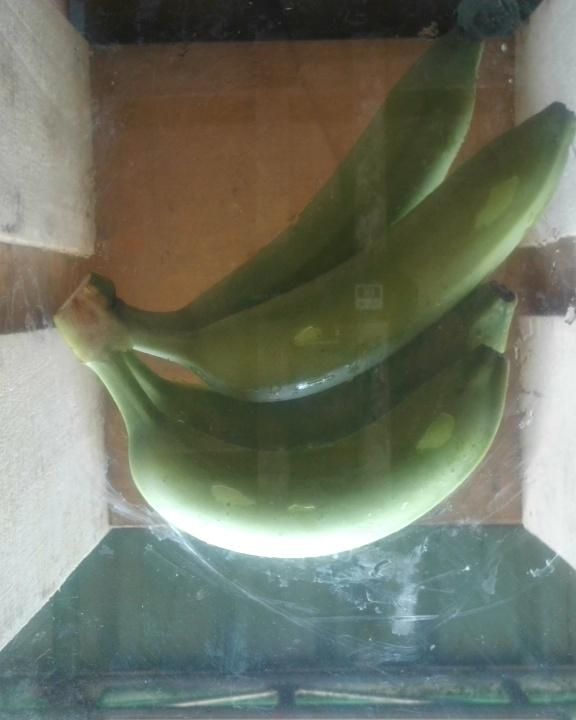SPOT: (50, 27, 559, 569)
